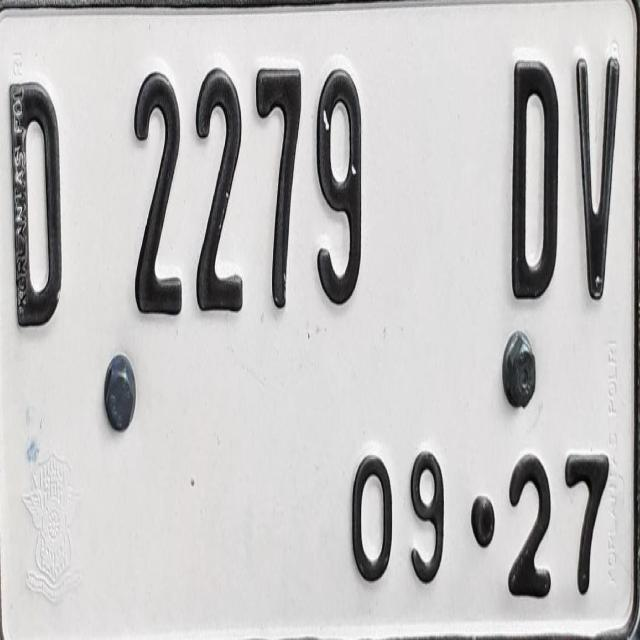2: (126, 65, 188, 326), (192, 61, 249, 316)
7: (250, 59, 304, 328)
9: (305, 61, 368, 312)
D: (6, 69, 66, 338), (507, 51, 564, 322)
V: (569, 48, 623, 320)
